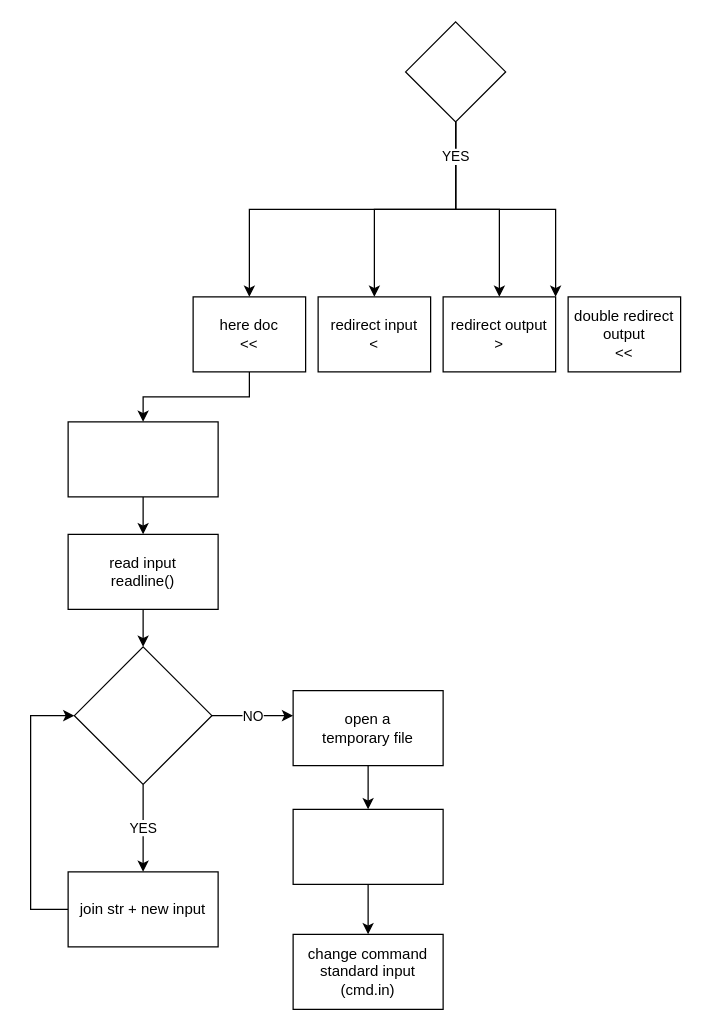
The diagram is 703 pixels wide and 1031 high, and some of its shapes have lost their labels. Each missing label, with the box of its shape:
display a prompt: (67, 421, 218, 497)
input != EOF variable: (73, 646, 212, 784)
redirect: (404, 21, 506, 122)
write str into the file: (292, 808, 443, 884)
